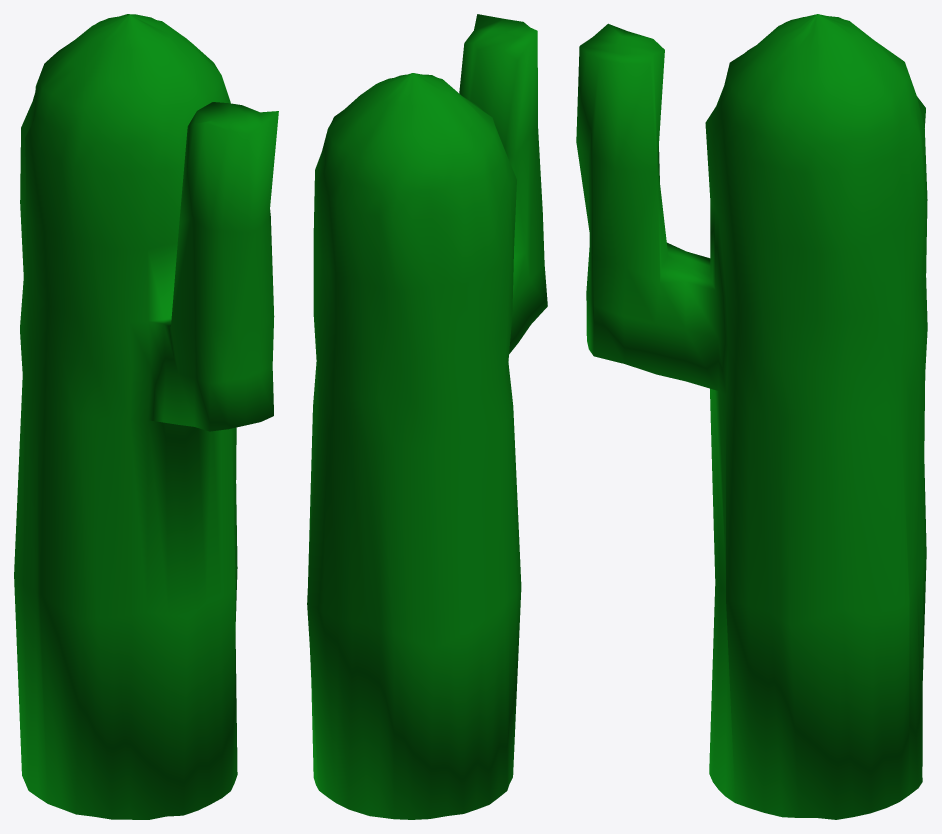
File: cactus.fbx
The picture shows the model from 3 angles, left to right: view 1: azimuth 30°, elevation 25°; view 2: azimuth 150°, elevation 25°; view 3: azimuth 270°, elevation 25°; orthographic projection. The views are drawn at different scales.
Parts seen in each view (by area): view 1: cactus; view 2: cactus; view 3: cactus.
Part boxes in pixels (x1,y1,x2,y2): cactus: [14, 14, 278, 819]; cactus: [307, 14, 547, 819]; cactus: [576, 14, 927, 819].
Bounding box in the file's own units: 65.33 × 247 × 103.
